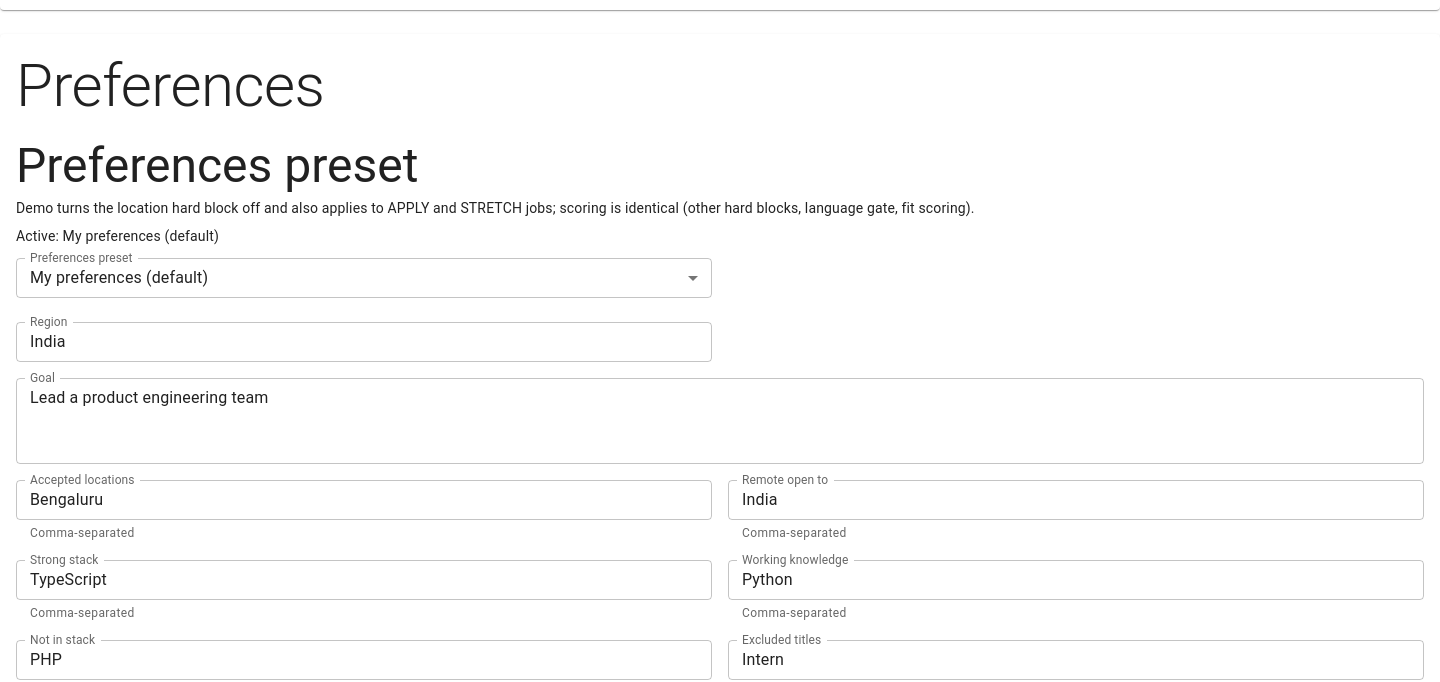
Scenario: <SettingsPage /> › shows the active preferences preset, explains Demo, and saves a switch to it
(page scrolled)
expect the text "Active: My preferences (default)" is shown: met, box x1=16 y1=228 x2=219 y2=244
expect the text "Demo turns the location hard block off and also applies to APPLY and STRETCH jobs; scoring is identical" is shown: met, box x1=16 y1=200 x2=975 y2=216
Select "Demo (broadened)" in the dropdown labelled "Preferences preset" at coordinates (364, 278), box x1=16 y1=258 x2=712 y2=298
(page scrolled)
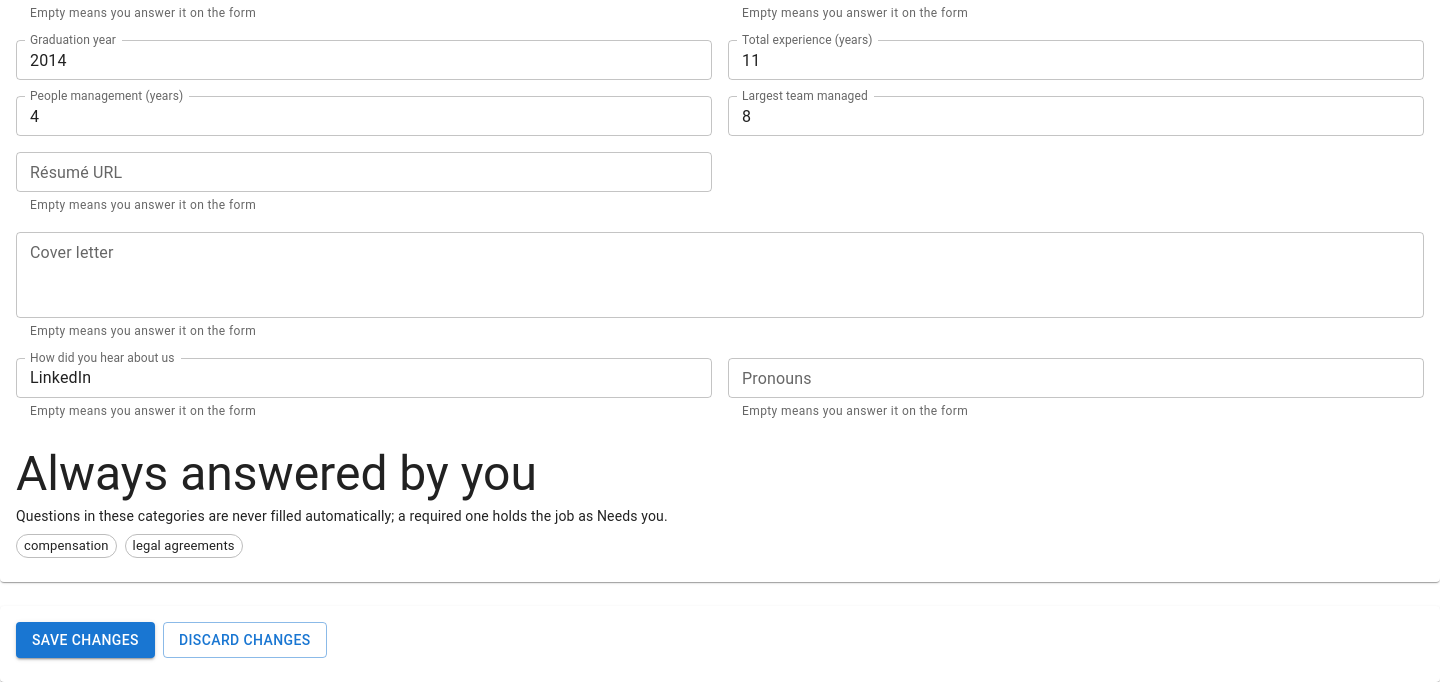
Click the button "Save changes" at coordinates (85, 640), box x1=16 y1=622 x2=155 y2=658
(page scrolled)
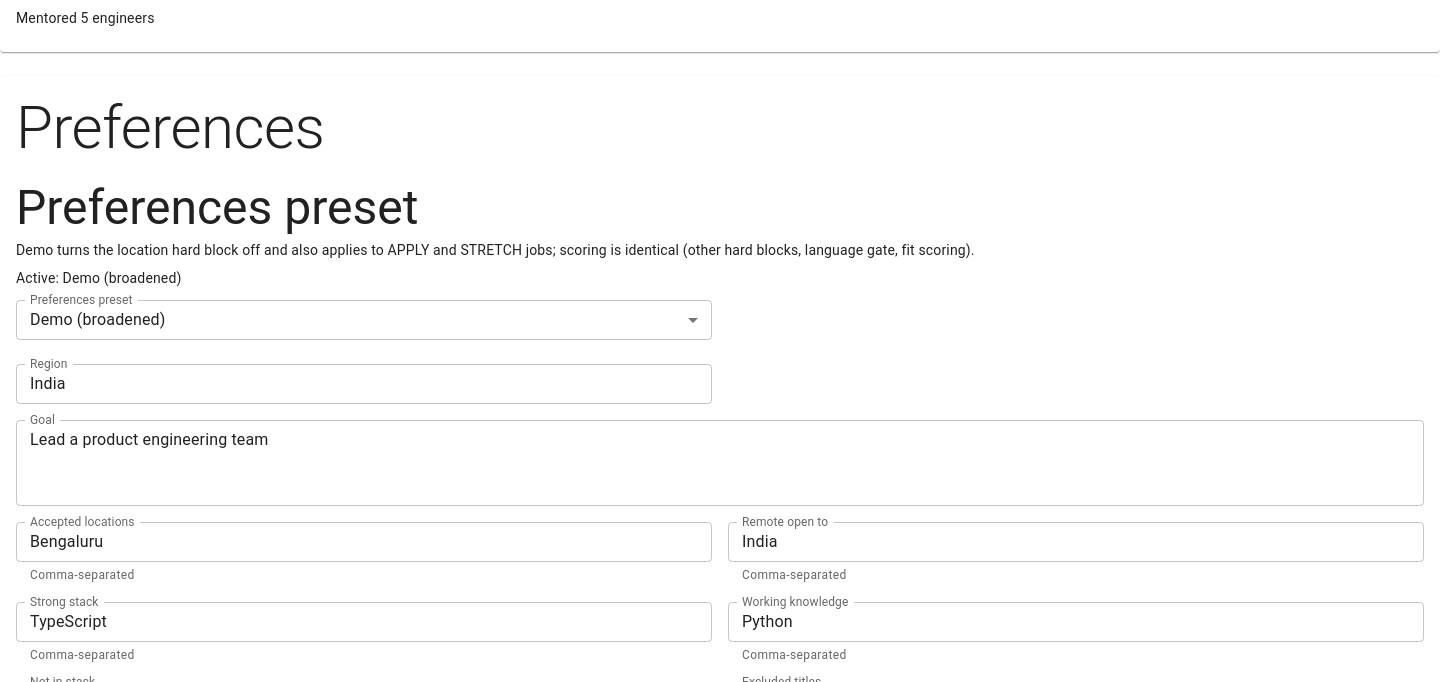
expect the text "Active: Demo (broadened)" is shown: met, box x1=16 y1=270 x2=182 y2=286
